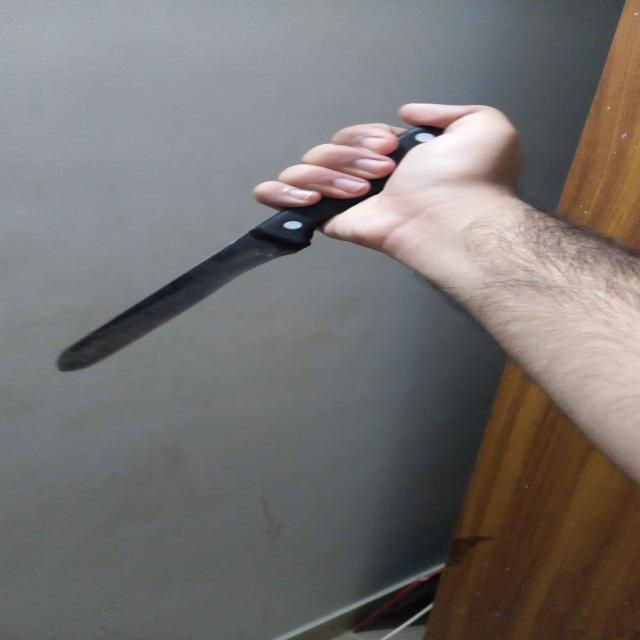weapon: (50, 76, 417, 392)
